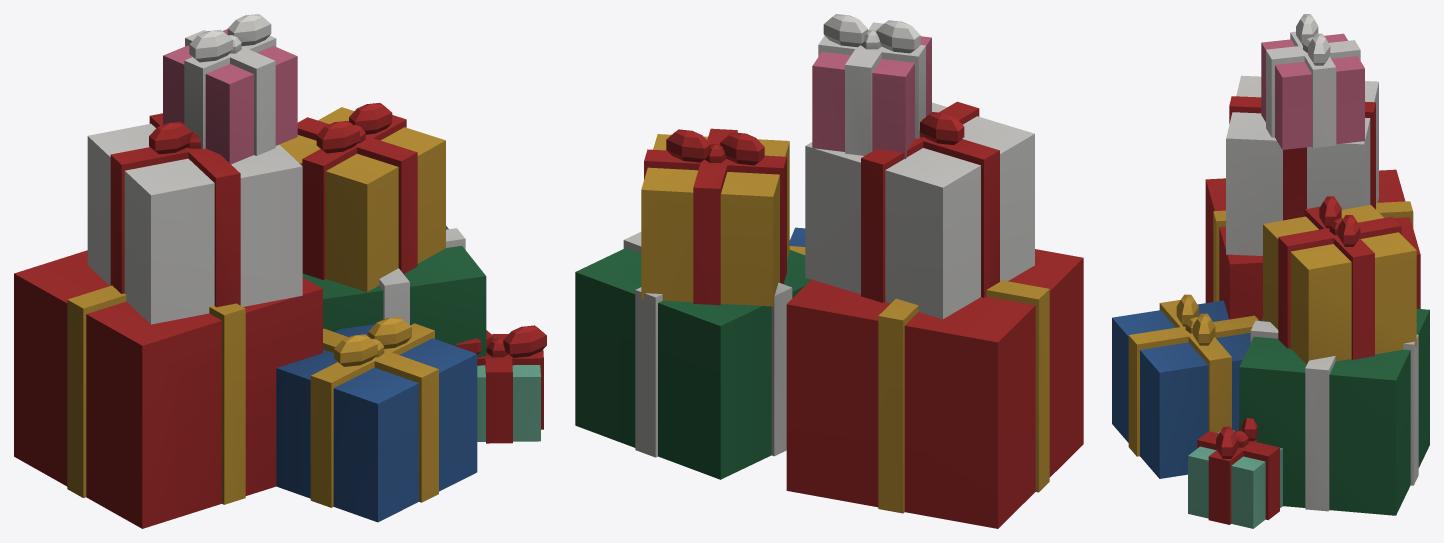
Rendered from xmas_gift_pile_low.glb.
3 views of the same model, side by side, from view 1: azimuth 30°, elevation 25°; view 2: azimuth 150°, elevation 25°; view 3: azimuth 270°, elevation 25° (orthographic). The views are drawn at different scales.
Size of the model in its own units: 0.8652 by 0.791 by 0.5961.
